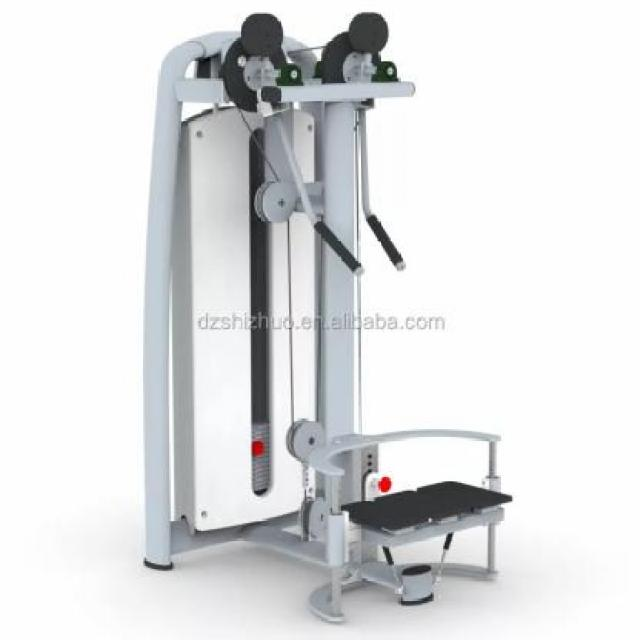lateral raises machine: (141, 12, 514, 623)
